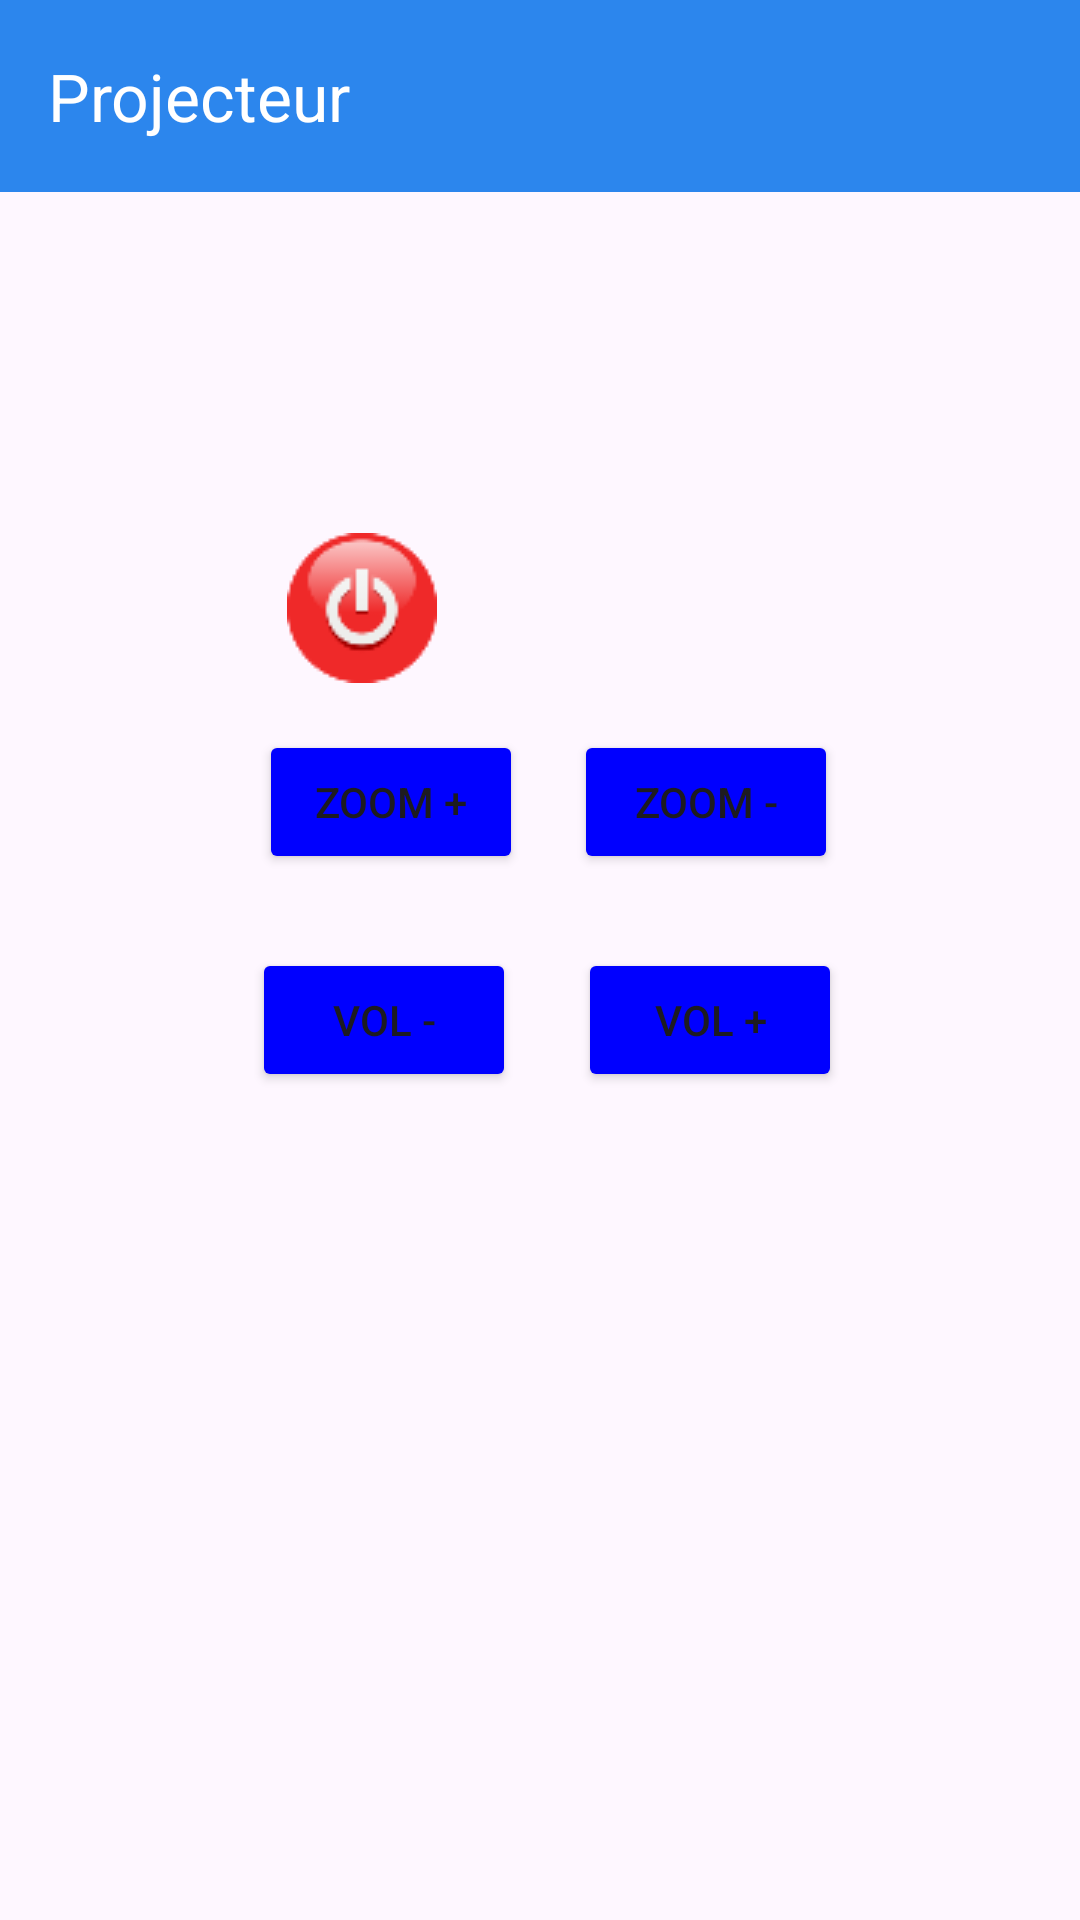

Point at icon controls on the screen. Image size 1080x1920, points as (x,y).
Bouton power: (362,608)
